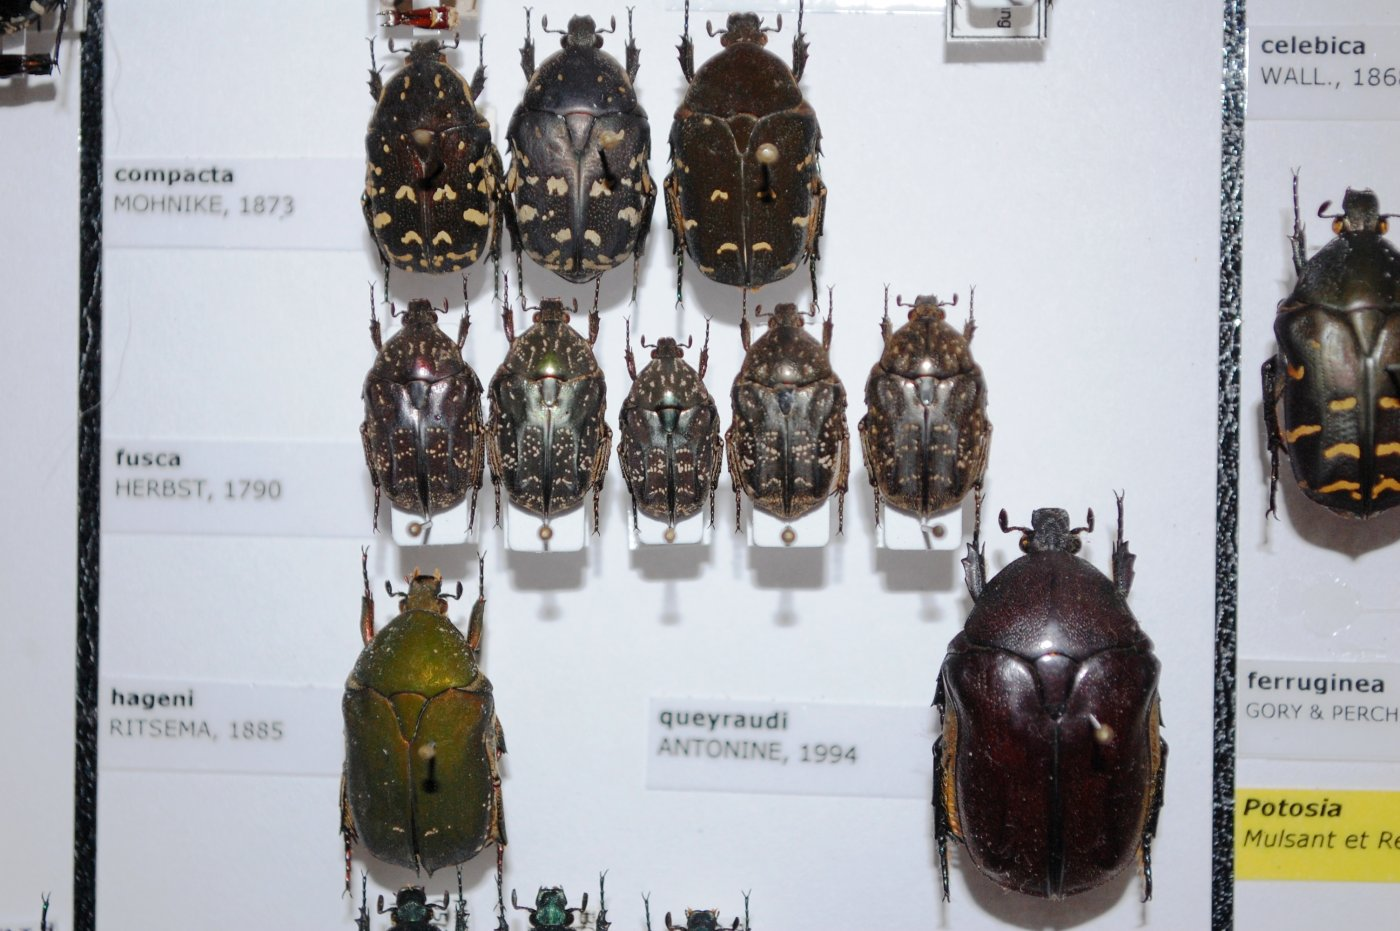Protaetia_fusca: (858, 276, 994, 548), (480, 283, 615, 550), (353, 276, 488, 533), (724, 283, 850, 548), (604, 313, 727, 547)
